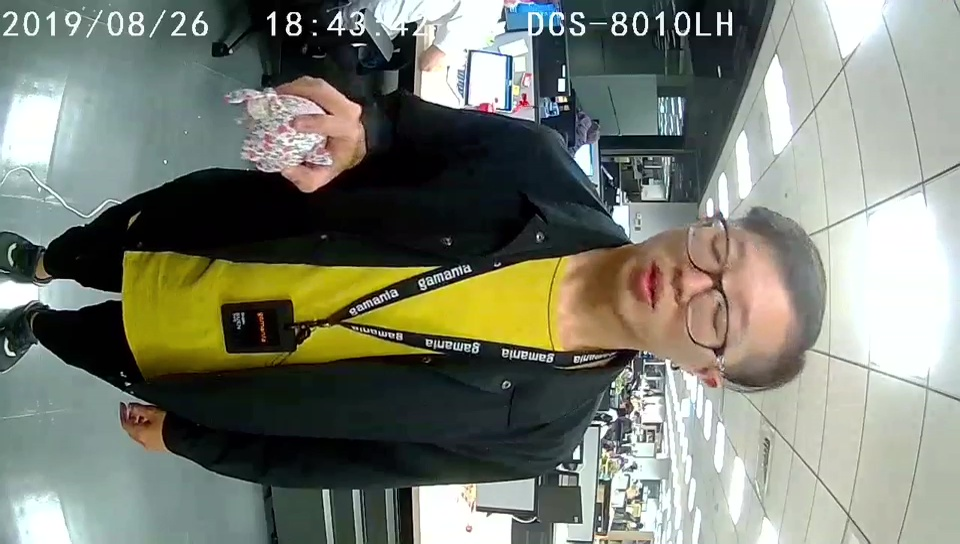pig: (239, 87, 333, 172)
